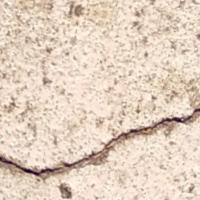crack: (0, 107, 199, 198)
